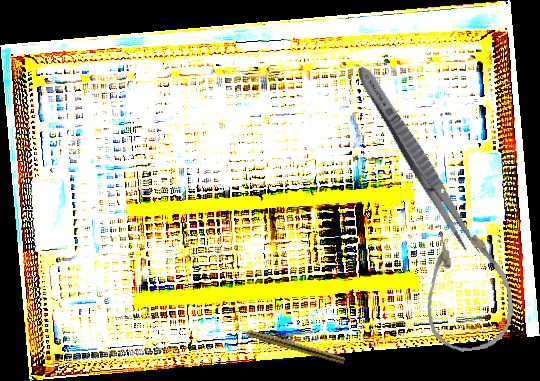Cannula: (418, 223, 518, 356)
Dressing Forceps: (350, 61, 487, 261)
Handpiece: (232, 323, 347, 365)
